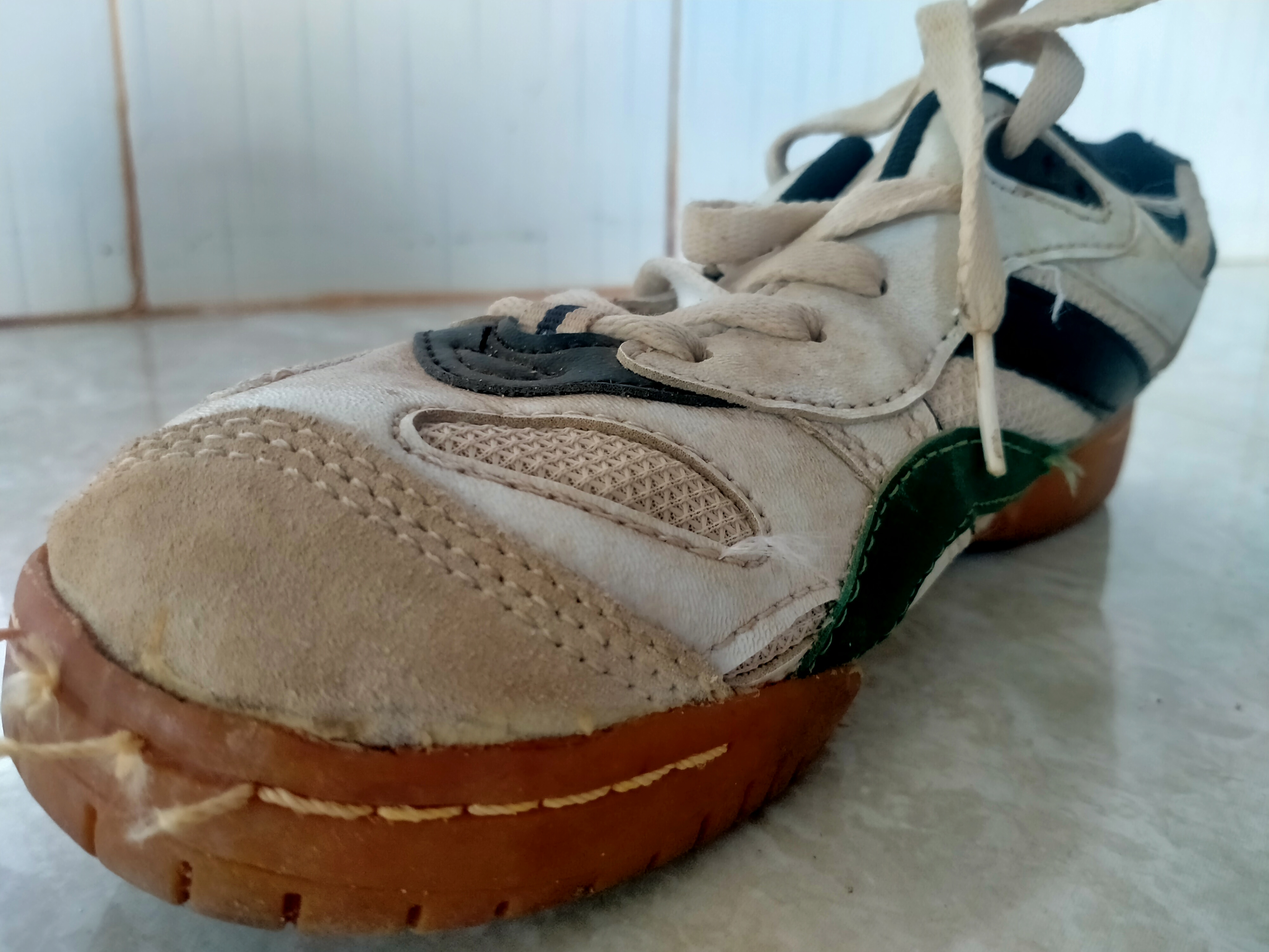broken: (15, 662, 265, 814)
